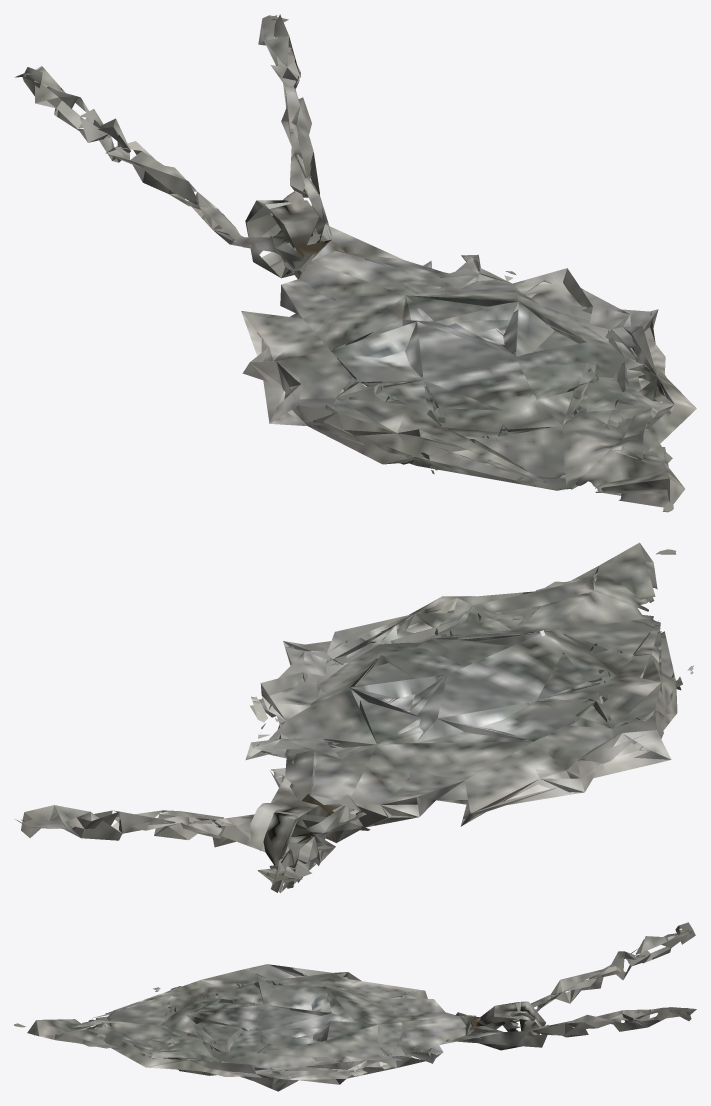
Rendered from medallion_LOD3.fbx.
3 views of the same model, one above another, from view 1: azimuth 30°, elevation 25°; view 2: azimuth 150°, elevation 25°; view 3: azimuth 270°, elevation 25° (orthographic). The views are drawn at different scales.
Parts seen in each view (by area): view 1: medallion_LOD3; view 2: medallion_LOD3; view 3: medallion_LOD3.
Part boxes in pixels (x1,y1,x2,y2): medallion_LOD3: (15, 14, 696, 512); medallion_LOD3: (15, 542, 693, 893); medallion_LOD3: (14, 922, 696, 1091).
Bounding box in the file's own units: 0.0494 × 0.0175 × 0.1157.
1 material, 1 textured.
